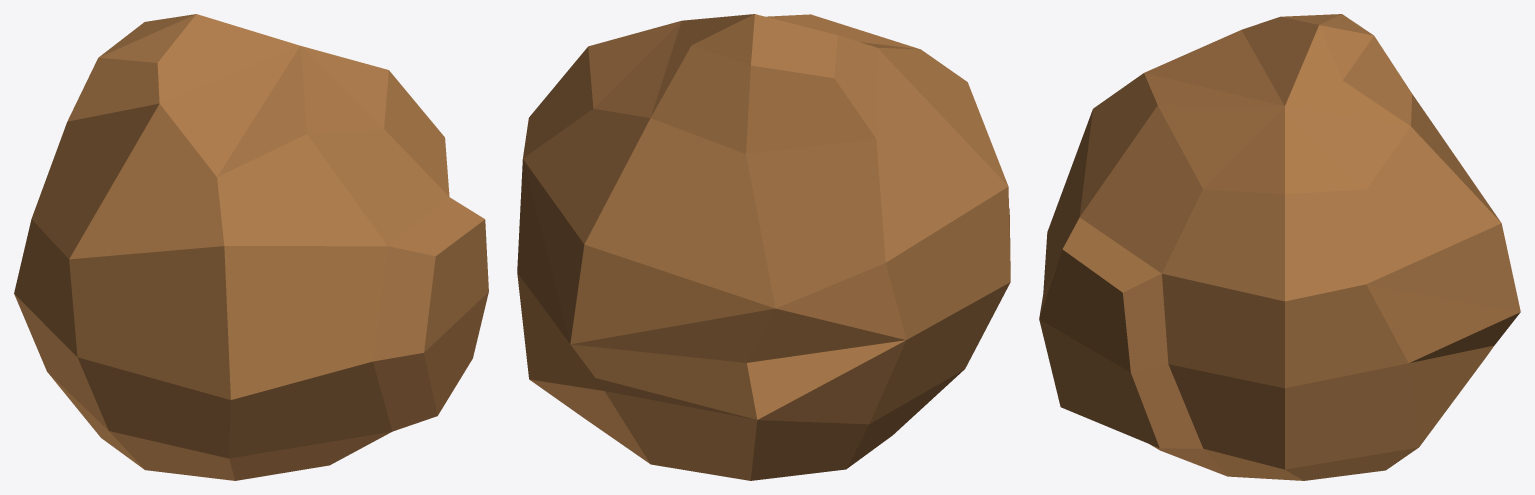
Rendered from Medium_Rock_0.5,0.5,0.5_Colored.fbx.
3 renders of one model, left to right at view 1: azimuth 30°, elevation 25°; view 2: azimuth 150°, elevation 25°; view 3: azimuth 270°, elevation 25°, orthographic. The views are drawn at different scales.
Visible parts, largest first — view 1: Medium_Rock_0_5_0_5_0_5; view 2: Medium_Rock_0_5_0_5_0_5; view 3: Medium_Rock_0_5_0_5_0_5.
Part boxes in pixels (left/top/right/bottom): Medium_Rock_0_5_0_5_0_5: left=14, top=14, right=488, bottom=480; Medium_Rock_0_5_0_5_0_5: left=517, top=14, right=1010, bottom=480; Medium_Rock_0_5_0_5_0_5: left=1039, top=14, right=1520, bottom=480.
Size of the model in its own units: 48.29 by 44.88 by 48.98.
